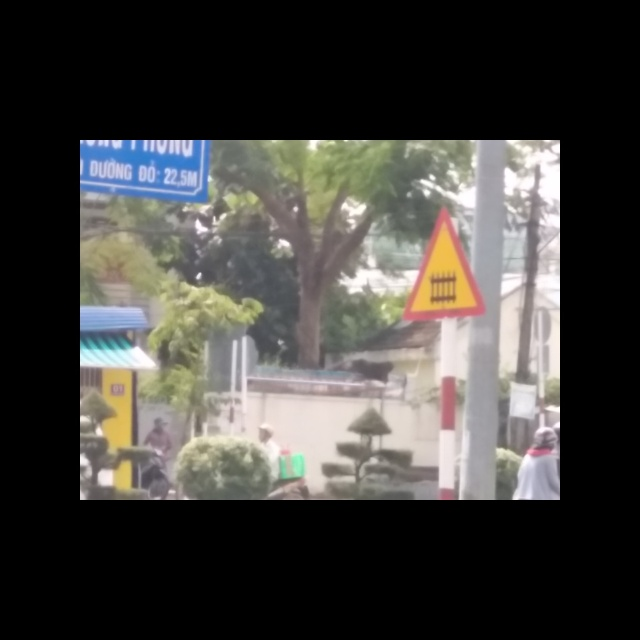Giao nhau với đường sắt có rào chắn: (399, 204, 489, 319)
